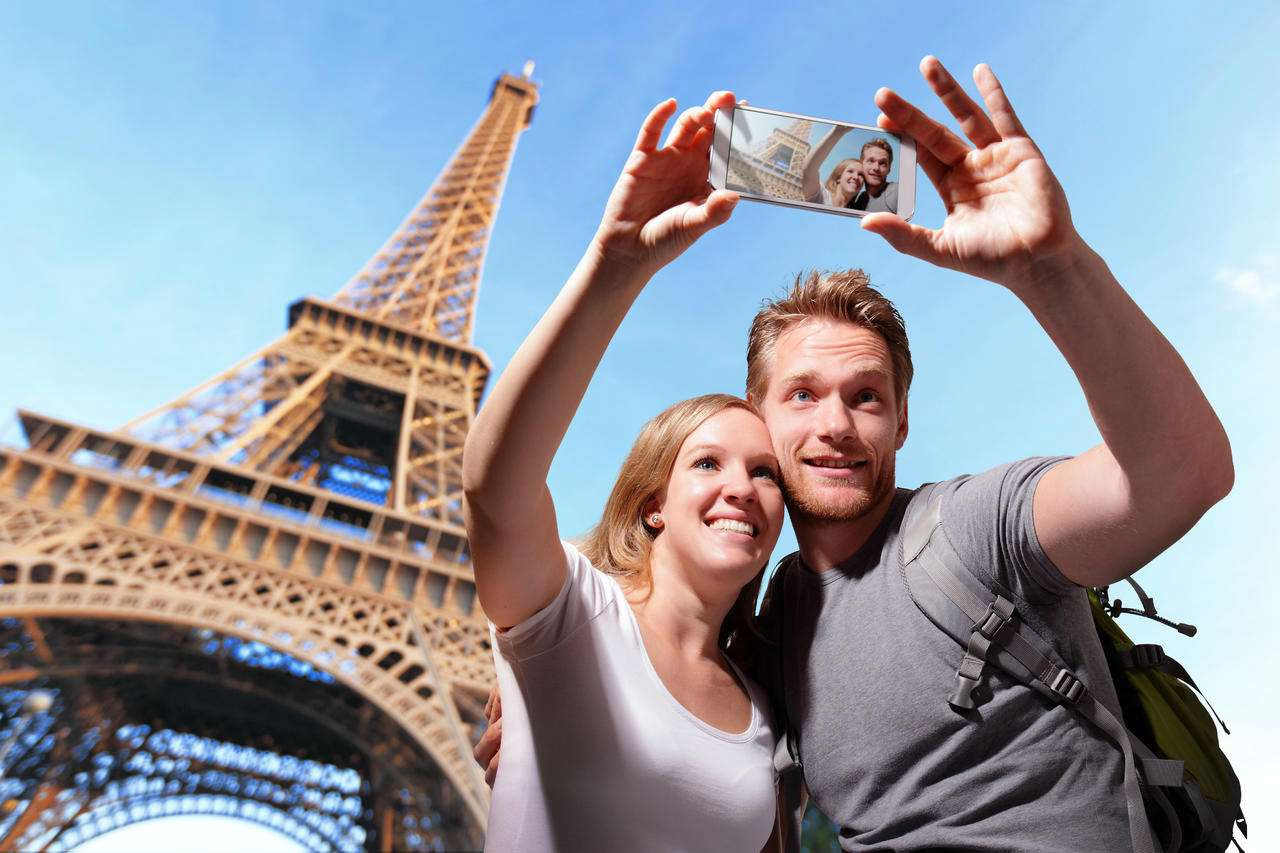taking photos: (583, 48, 1101, 307)
